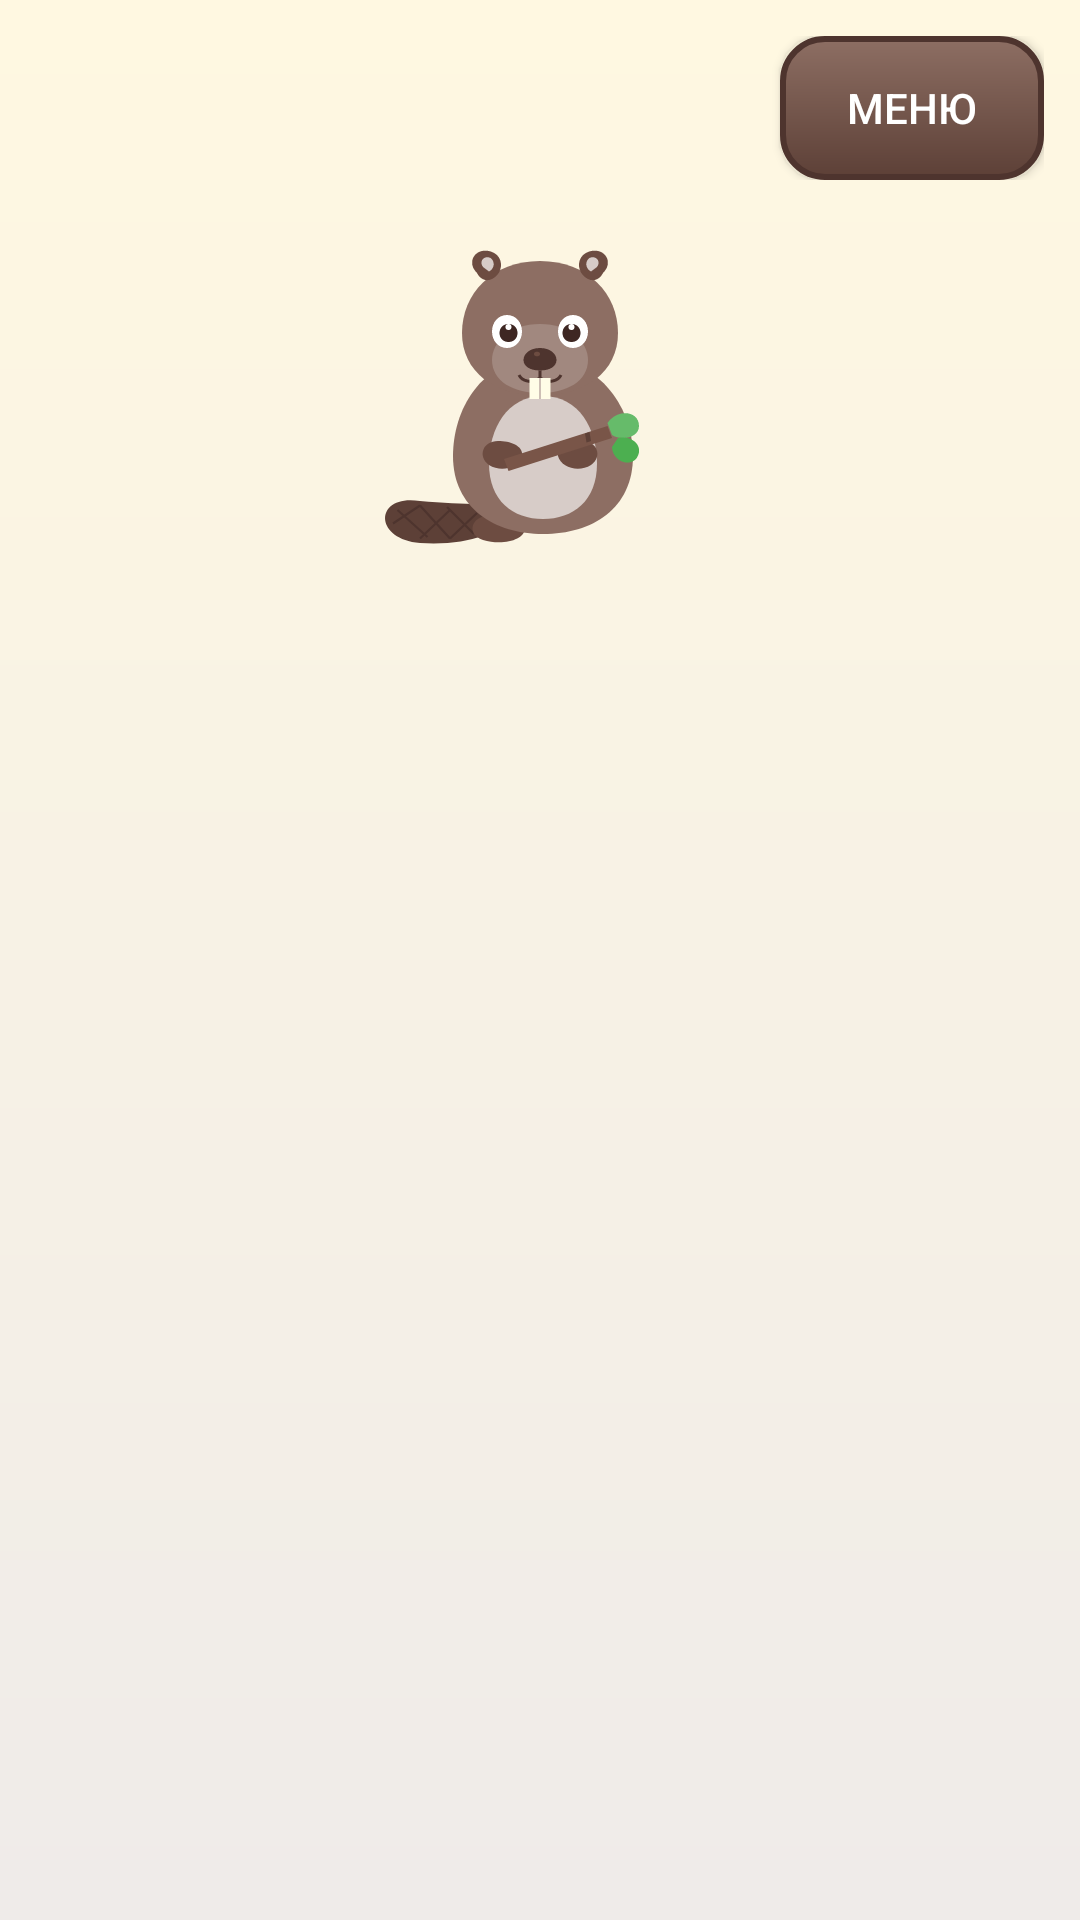

Where to tap for icons on this 1080x1920 app screen, as [x,y]:
beaver: [512,397]
